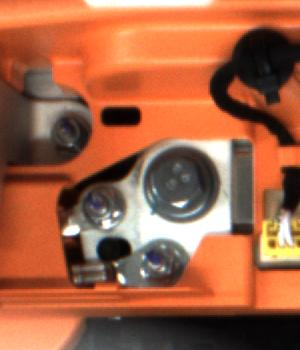nut_b: (143, 145, 220, 226)
screw_s: (135, 244, 179, 286), (81, 187, 122, 229), (44, 108, 81, 153)
